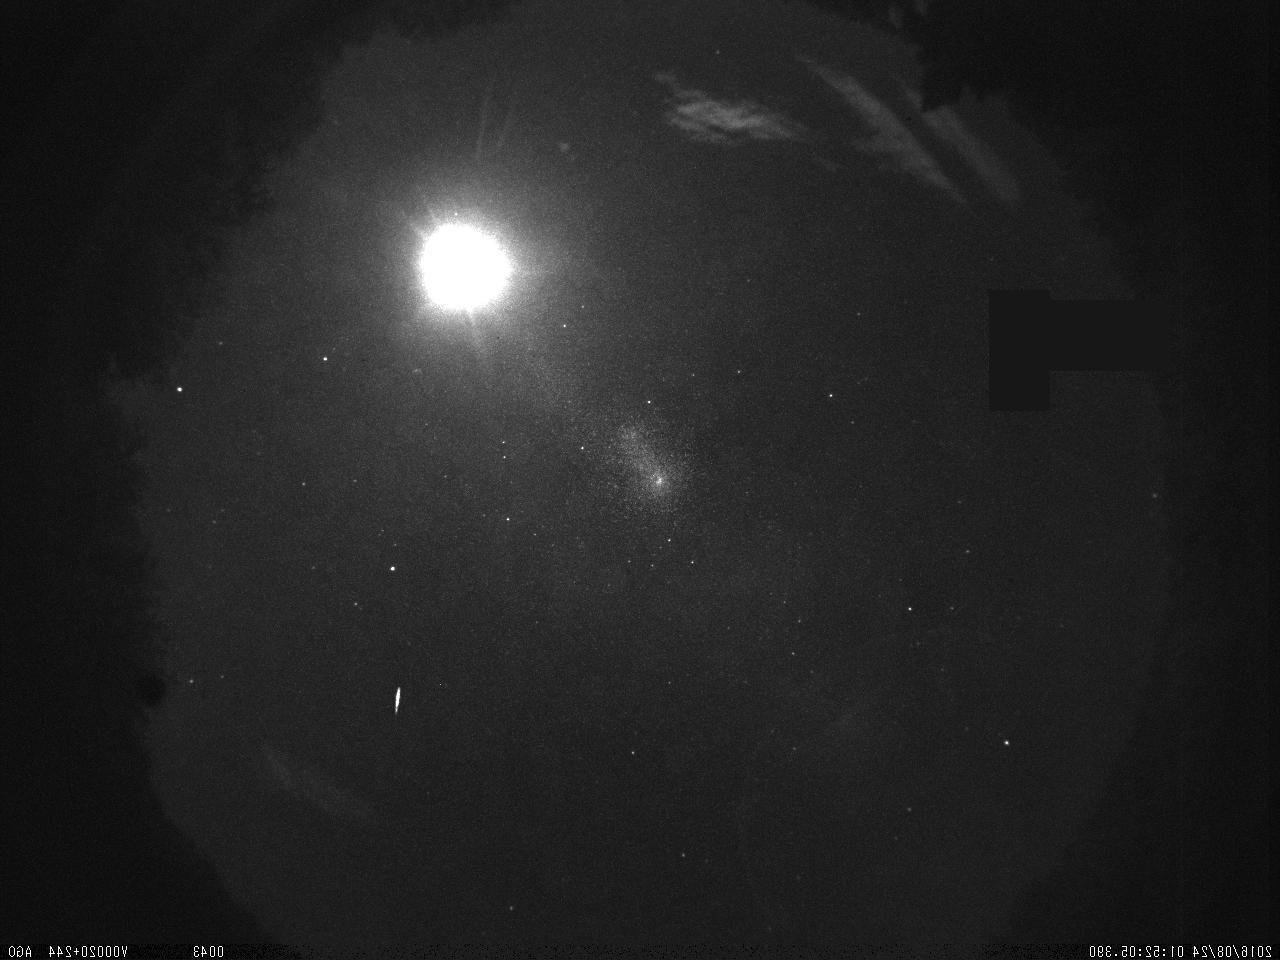meteor: (383, 679, 408, 721)
